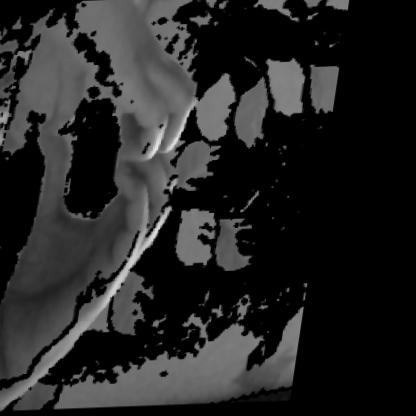heart: (25, 36, 208, 303)
